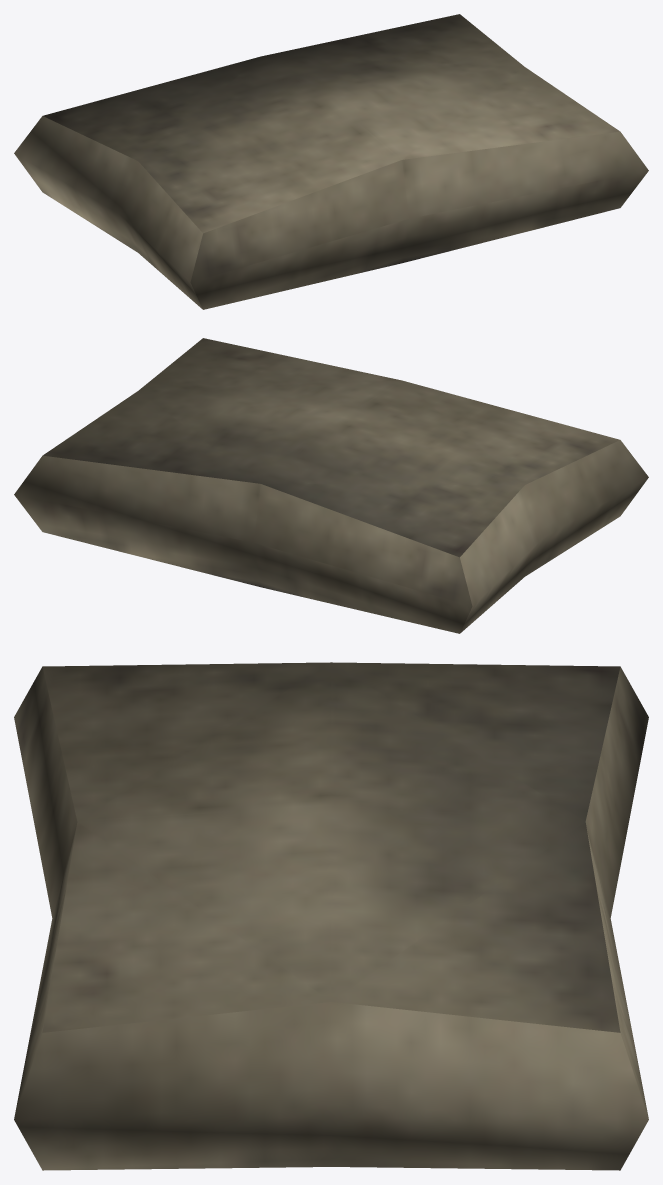
Rendered from sandbag_1.glb.
3 renders of one model, top to bottom at view 1: azimuth 30°, elevation 25°; view 2: azimuth 150°, elevation 25°; view 3: azimuth 270°, elevation 25°, orthographic. The views are drawn at different scales.
Visible parts, largest first — view 1: Prop_Sandbag_Single; view 2: Prop_Sandbag_Single; view 3: Prop_Sandbag_Single.
Boxes of the visible parts, bbox=[...] form: Prop_Sandbag_Single: bbox=[14, 14, 648, 309]; Prop_Sandbag_Single: bbox=[14, 338, 648, 633]; Prop_Sandbag_Single: bbox=[14, 662, 648, 1170].
Size of the model in its own units: 1.24 by 0.3219 by 0.8239.
1 material, 1 textured.
